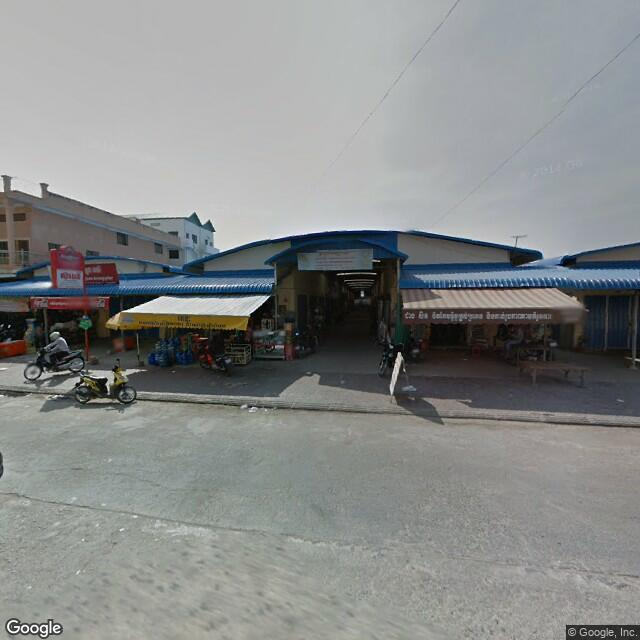litter: (232, 398, 271, 418), (613, 393, 630, 406)
